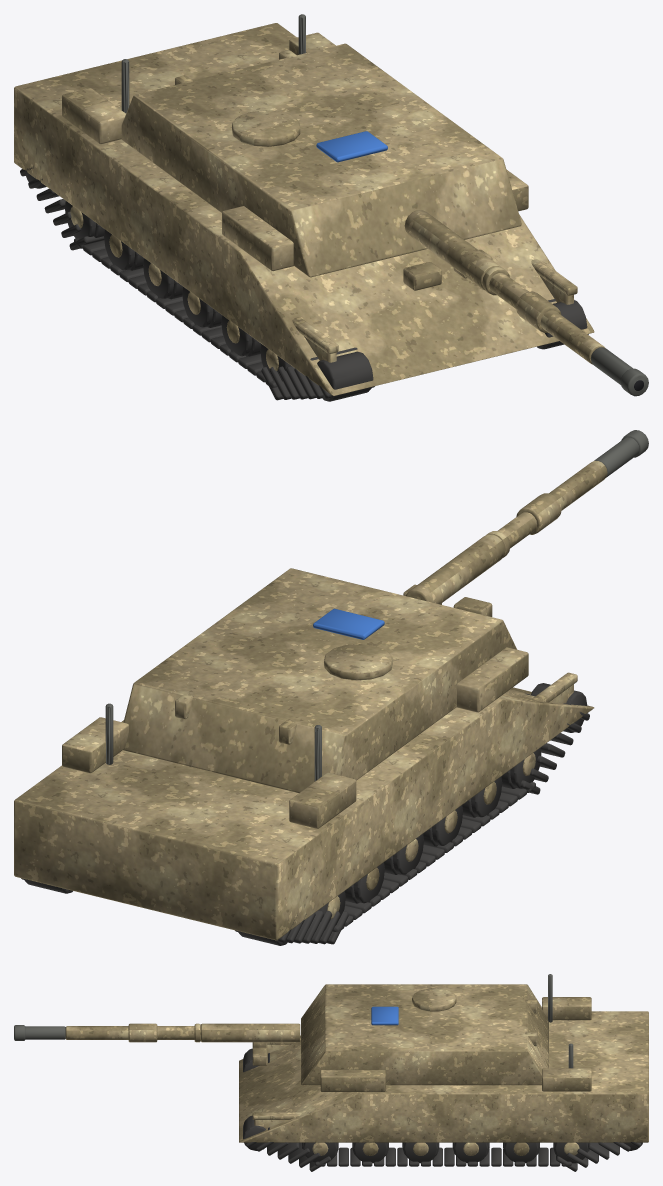
The model's file is afv_e4_us_tankdestroyer_LOD0.glb.
3 renders of one model, top to bottom at view 1: azimuth 30°, elevation 25°; view 2: azimuth 150°, elevation 25°; view 3: azimuth 270°, elevation 25°, orthographic. The views are drawn at different scales.
Parts seen in each view (by area): view 1: afv_e4_us_tankdestroyer_LOD0_body, afv_e4_us_tankdestroyer_LOD0_track, afv_e4_us_tankdestroyer_LOD0_gun, afv_e4_us_tankdestroyer_LOD0_team; view 2: afv_e4_us_tankdestroyer_LOD0_body, afv_e4_us_tankdestroyer_LOD0_track, afv_e4_us_tankdestroyer_LOD0_gun, afv_e4_us_tankdestroyer_LOD0_team; view 3: afv_e4_us_tankdestroyer_LOD0_body, afv_e4_us_tankdestroyer_LOD0_track, afv_e4_us_tankdestroyer_LOD0_gun, afv_e4_us_tankdestroyer_LOD0_team.
Part boxes in pixels (bbox=[...]): afv_e4_us_tankdestroyer_LOD0_body: bbox=[14, 23, 605, 395]; afv_e4_us_tankdestroyer_LOD0_track: bbox=[20, 166, 588, 401]; afv_e4_us_tankdestroyer_LOD0_gun: bbox=[121, 14, 648, 396]; afv_e4_us_tankdestroyer_LOD0_team: bbox=[316, 131, 387, 162]; afv_e4_us_tankdestroyer_LOD0_body: bbox=[14, 460, 607, 940]; afv_e4_us_tankdestroyer_LOD0_track: bbox=[21, 683, 589, 945]; afv_e4_us_tankdestroyer_LOD0_gun: bbox=[105, 430, 648, 781]; afv_e4_us_tankdestroyer_LOD0_team: bbox=[313, 608, 384, 639]; afv_e4_us_tankdestroyer_LOD0_body: bbox=[65, 984, 648, 1155]; afv_e4_us_tankdestroyer_LOD0_track: bbox=[243, 1048, 642, 1171]; afv_e4_us_tankdestroyer_LOD0_gun: bbox=[14, 974, 573, 1068]; afv_e4_us_tankdestroyer_LOD0_team: bbox=[371, 1006, 398, 1025].
Bounding box in the file's own units: 3.15 × 2.24 × 10.2.
5 materials, 1 textured.
